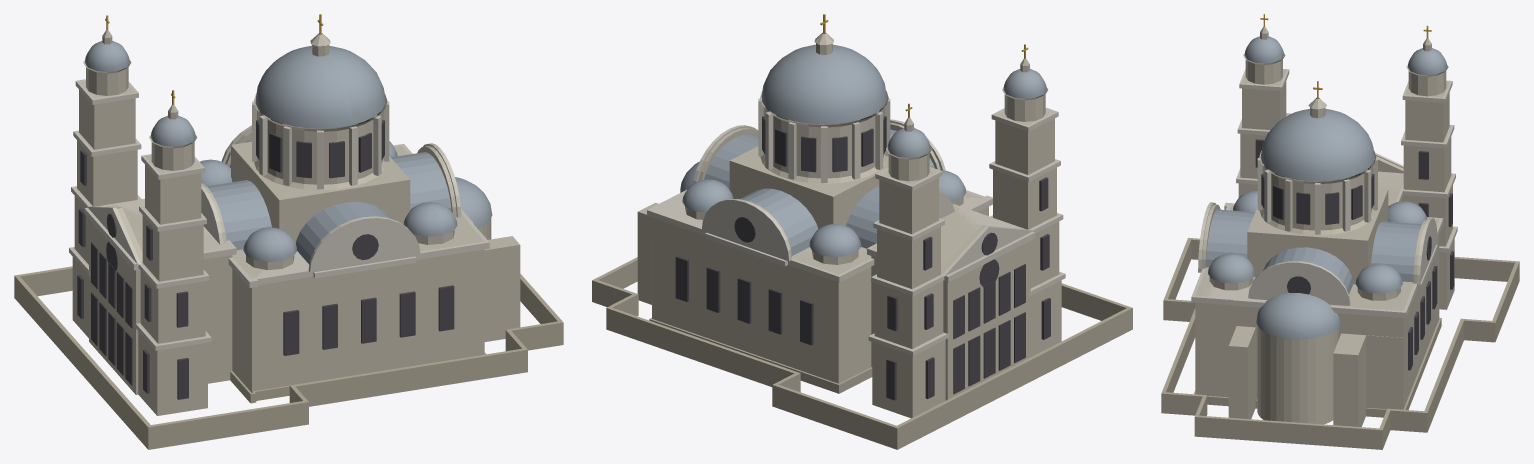
Rendered from ayatriada.web.glb.
The picture shows the model from 3 angles, left to right: view 1: azimuth 30°, elevation 25°; view 2: azimuth 150°, elevation 25°; view 3: azimuth 270°, elevation 25°; orthographic projection. The views are drawn at different scales.
Visible parts, largest first — view 1: body, tower, garden, drum, front, dome, gable, roof, apse, small; view 2: tower, body, garden, front, drum, dome, gable, roof, small, apse; view 3: apse, tower, garden, body, drum, dome, roof, gable, small, front.
Part boxes in pixels (box(x1,y1,x2,y2)): body: box(228, 144, 489, 403); tower: box(69, 15, 211, 415); garden: box(14, 266, 563, 449); drum: box(231, 93, 410, 244); front: box(84, 199, 236, 394); dome: box(255, 14, 385, 128); gable: box(201, 125, 461, 278); roof: box(207, 138, 451, 264); apse: box(455, 177, 520, 341); small: box(200, 141, 457, 270); tower: box(868, 44, 1065, 418); body: box(647, 189, 992, 393); garden: box(592, 257, 1132, 449); front: box(867, 204, 1035, 400); drum: box(729, 91, 890, 228); dome: box(761, 14, 886, 124); gable: box(693, 119, 954, 266); roof: box(704, 129, 934, 255); small: box(682, 170, 966, 264); apse: box(637, 161, 699, 318); apse: box(1228, 293, 1403, 426); tower: box(1236, 14, 1457, 309); garden: box(1161, 238, 1519, 449); body: box(1191, 202, 1443, 417); drum: box(1247, 151, 1388, 284); dome: box(1260, 81, 1374, 181); roof: box(1206, 209, 1421, 293); gable: box(1198, 202, 1437, 305); small: box(1208, 190, 1427, 300); front: box(1375, 152, 1403, 205).
Size of what is drawn, in the model's own units: 46.23 by 31.5 by 36.36.
